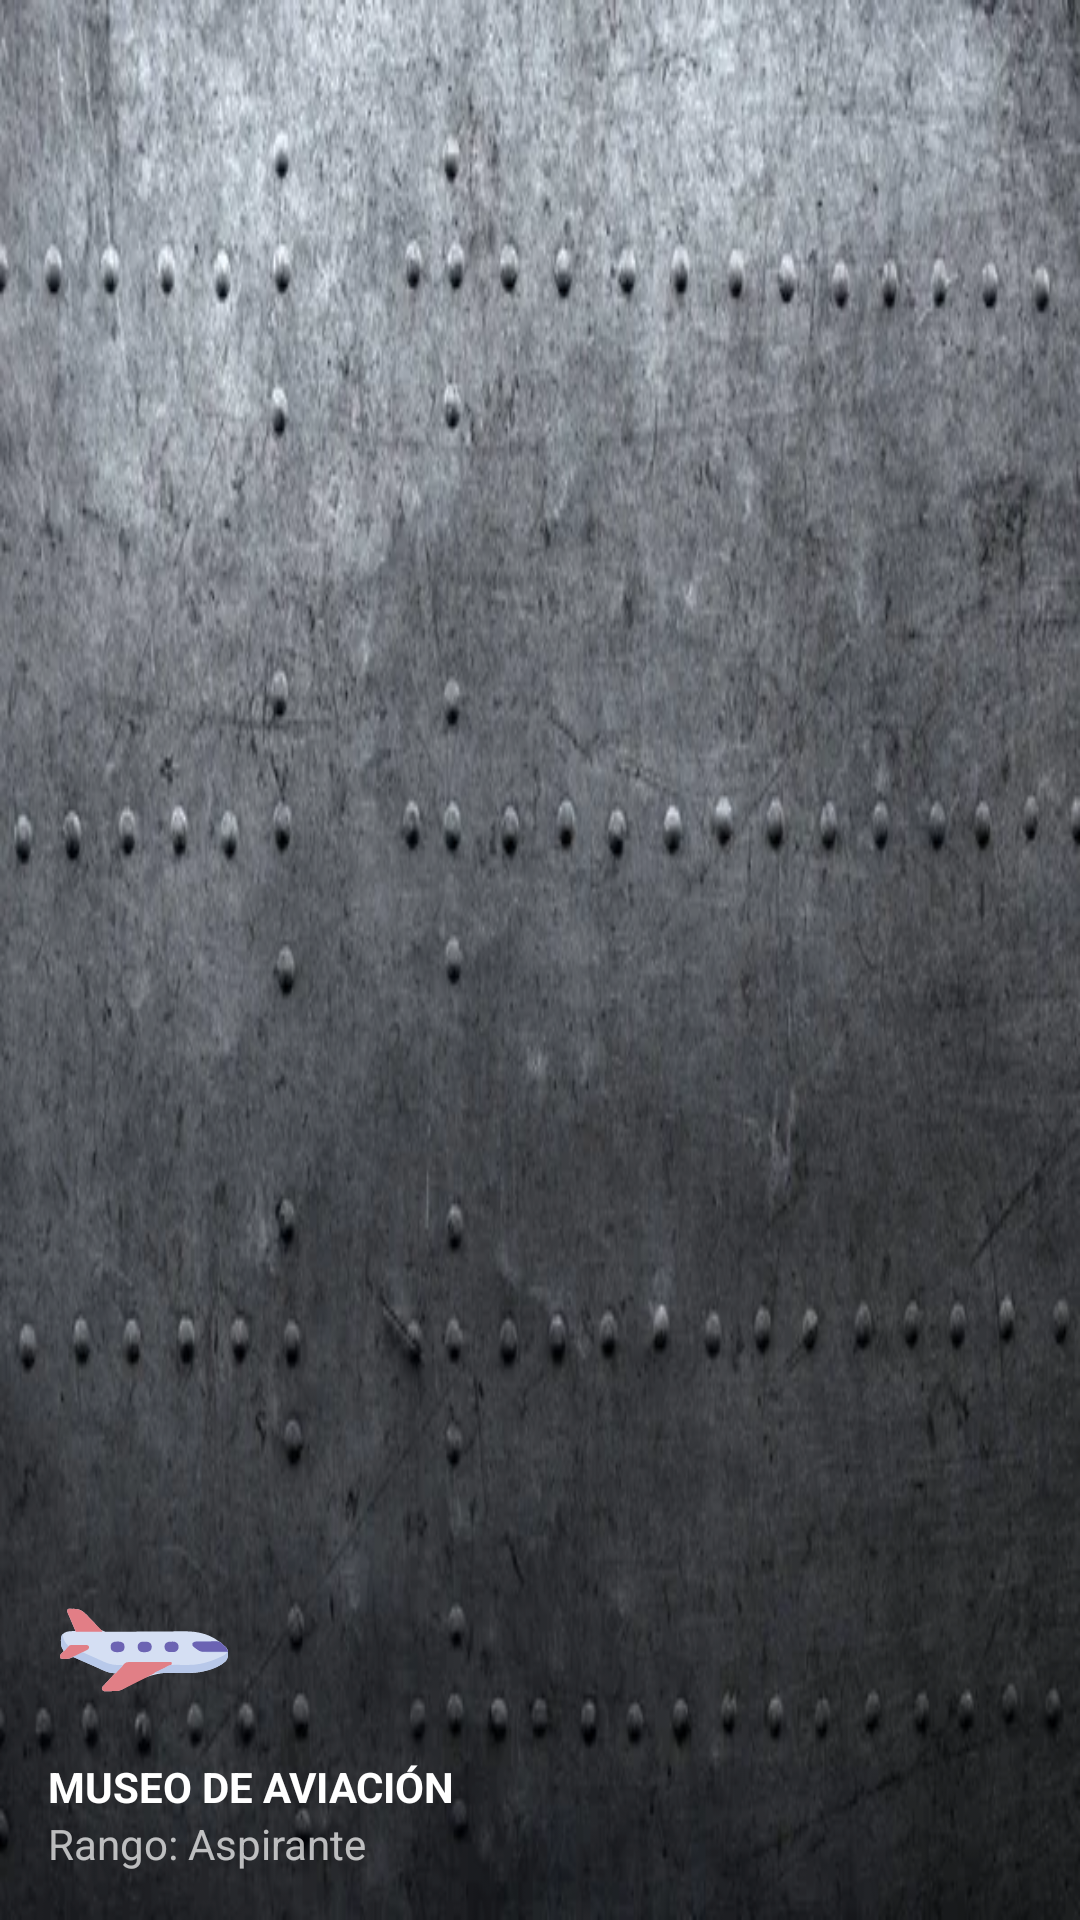

Named icons in this screenshot (1080 x 1920) and their centers, [x,y]:
plane: [144,1666]
